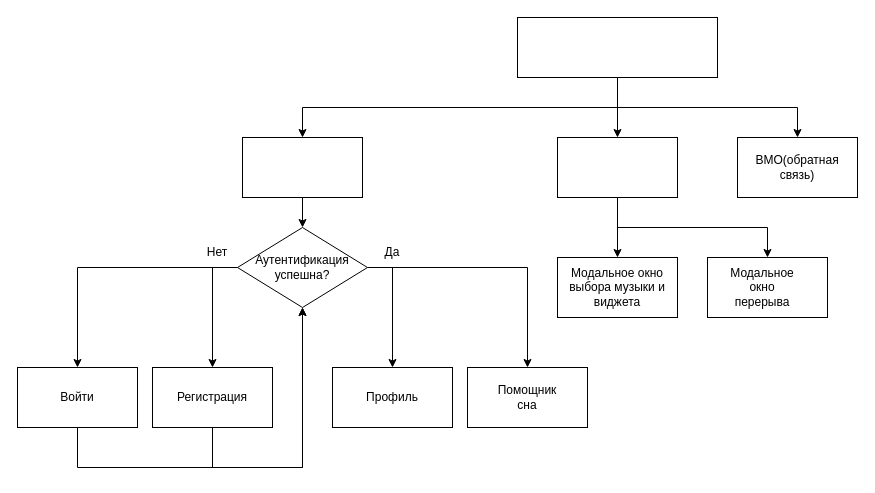
The diagram is 875 pixels wide and 493 high, and some of its shapes have lost their labels. Here are the shapes that lost their labels. From the top down, the centre of each, then its label:
At pixel 617 47: "Главная (Productivity_Gainer.html)".
At pixel 302 167: "Боковое меню".
At pixel 617 167: "Таймер и модальные окна".
